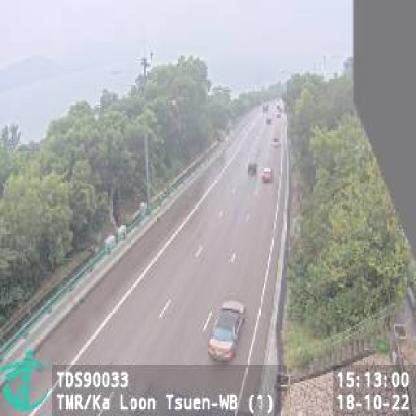Car: (207, 298, 249, 362), (261, 166, 274, 184), (247, 158, 258, 177)
